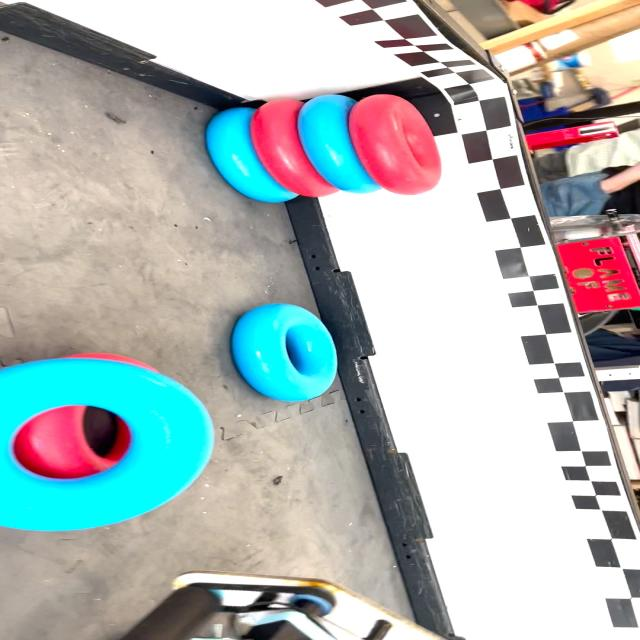Blue-Ring: (0, 359, 213, 531), (231, 304, 338, 401), (207, 108, 296, 202), (298, 95, 382, 194)
Red-Ring: (349, 94, 440, 195), (251, 100, 338, 198)
